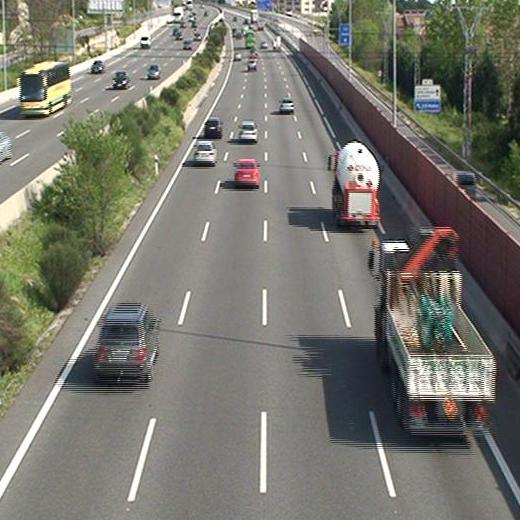car: (94, 306, 158, 378), (234, 160, 260, 186), (194, 140, 218, 165), (239, 121, 258, 142), (205, 118, 222, 137), (280, 97, 294, 111), (248, 59, 258, 69), (233, 51, 242, 60)
small-truck: (375, 235, 496, 435)
tank-truck: (333, 142, 381, 227)
